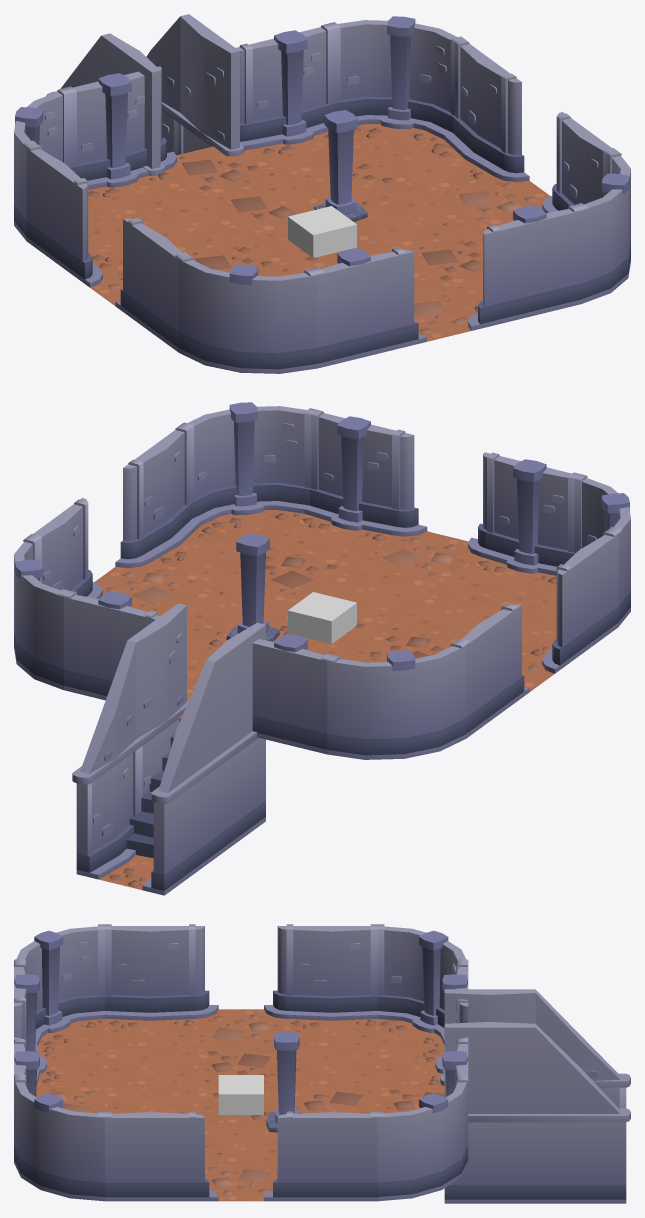
The model's file is kona.glb.
3 views of the same model, one above another, from view 1: azimuth 30°, elevation 25°; view 2: azimuth 150°, elevation 25°; view 3: azimuth 270°, elevation 25° (orthographic). The views are drawn at different scales.
Parts seen in each view (by area): view 1: roon-col, stairs, Cube; view 2: roon-col, stairs, Cube; view 3: roon-col, stairs, Cube.
Part boxes in pixels (<box>): roon-col: <box>14,16,630,373</box>; stairs: <box>46,14,244,175</box>; Cube: <box>288,206,356,257</box>; roon-col: <box>14,402,630,759</box>; stairs: <box>72,603,265,895</box>; Cube: <box>288,592,356,643</box>; roon-col: <box>14,924,468,1201</box>; stairs: <box>440,989,630,1203</box>; Cube: <box>218,1075,263,1114</box>.
Size of the model in its own units: 20 by 8.55 by 27.15.
3 materials, 2 textured.
